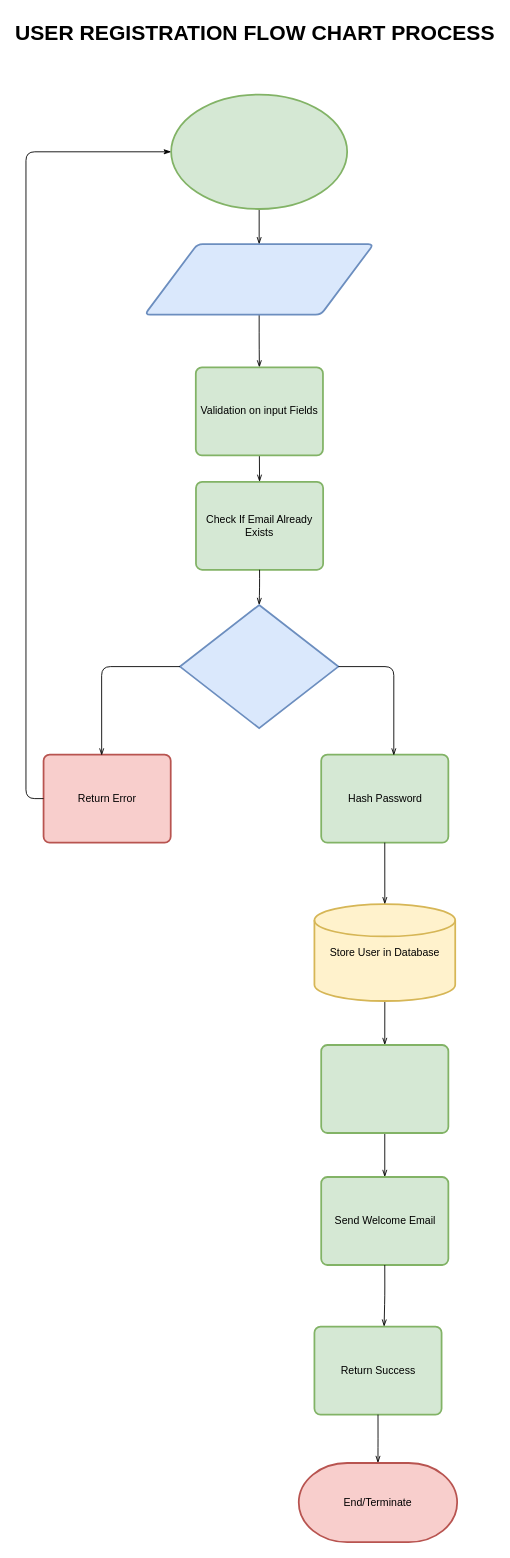
This 510x1558 diagram has some shape labels left out. The shapes that lost their labels are listed below. From the top down, each one's centre as x and y in pixels, then its label:
At point (259, 151): "Start Registration".
At point (258, 279): "User Submits Registration Form".
At point (259, 666): "Email Exists?".
At point (384, 1088): "Generate JWT Token".
